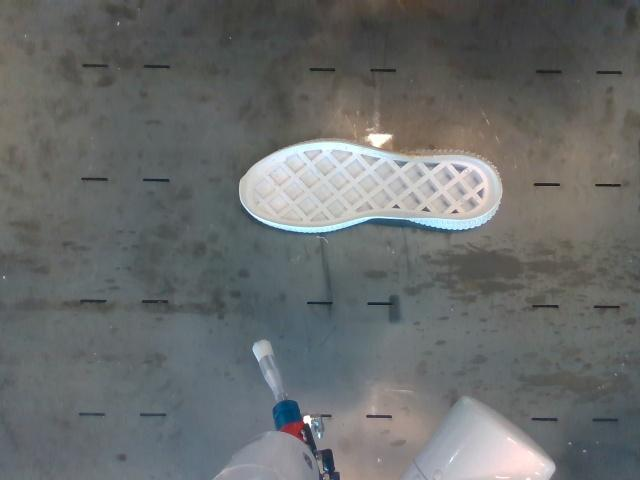shoes: (239, 143, 501, 227)
